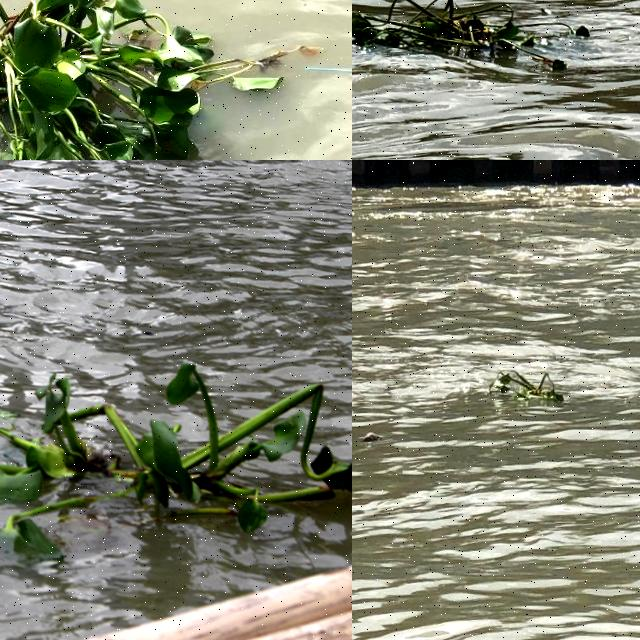water-hyacinth: (1, 359, 353, 546), (1, 1, 315, 161), (353, 1, 587, 75), (480, 365, 576, 411)
